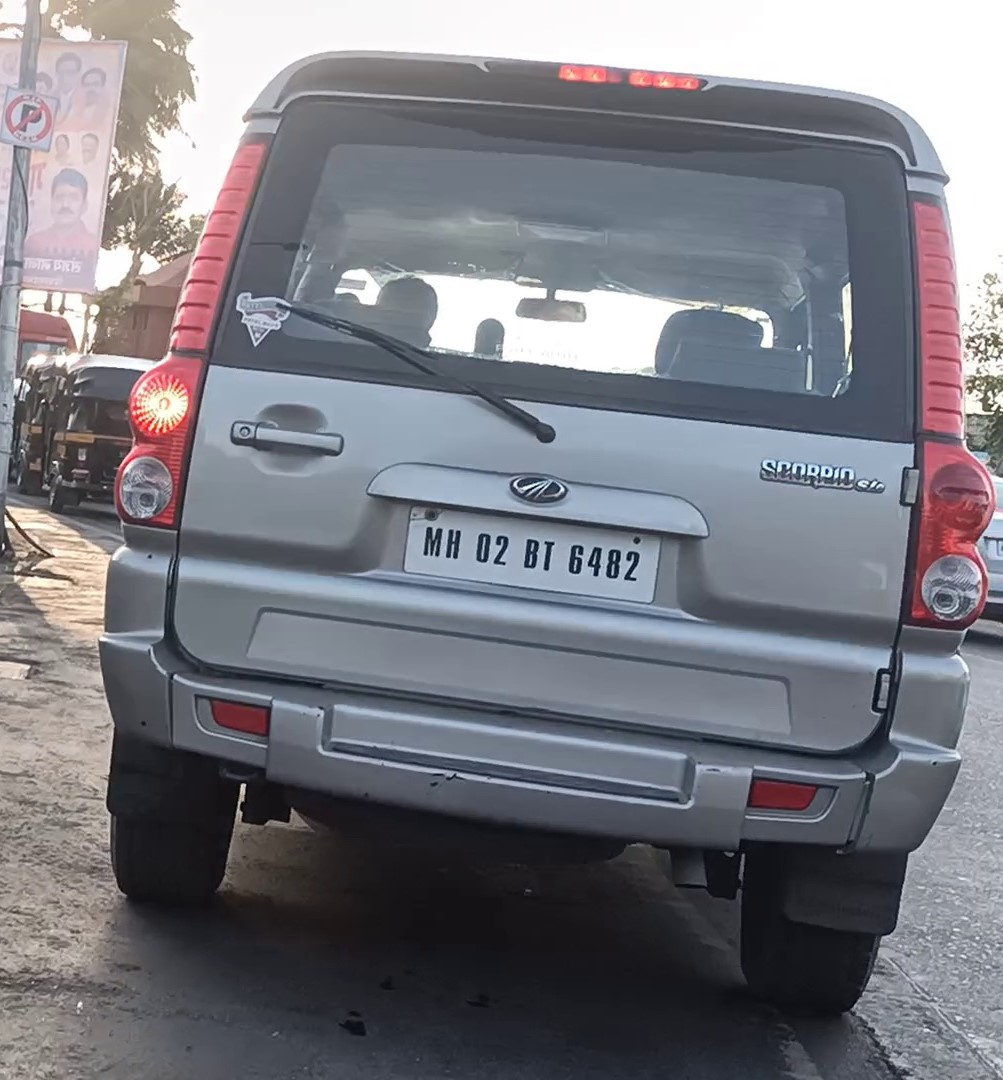MH02BT6482: (403, 500, 664, 602)
